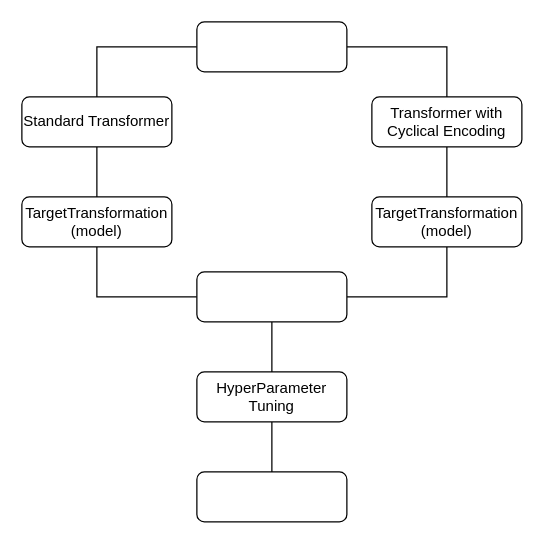
Image size: 544x544. Some labels were removed from this diagram. Here are the shapes that lost their labels. From the top down, the box of each, then its label:
(196, 21, 347, 72): Data Preprocessing
(196, 271, 347, 322): Best Model
(196, 471, 347, 522): Best model after Tuning
